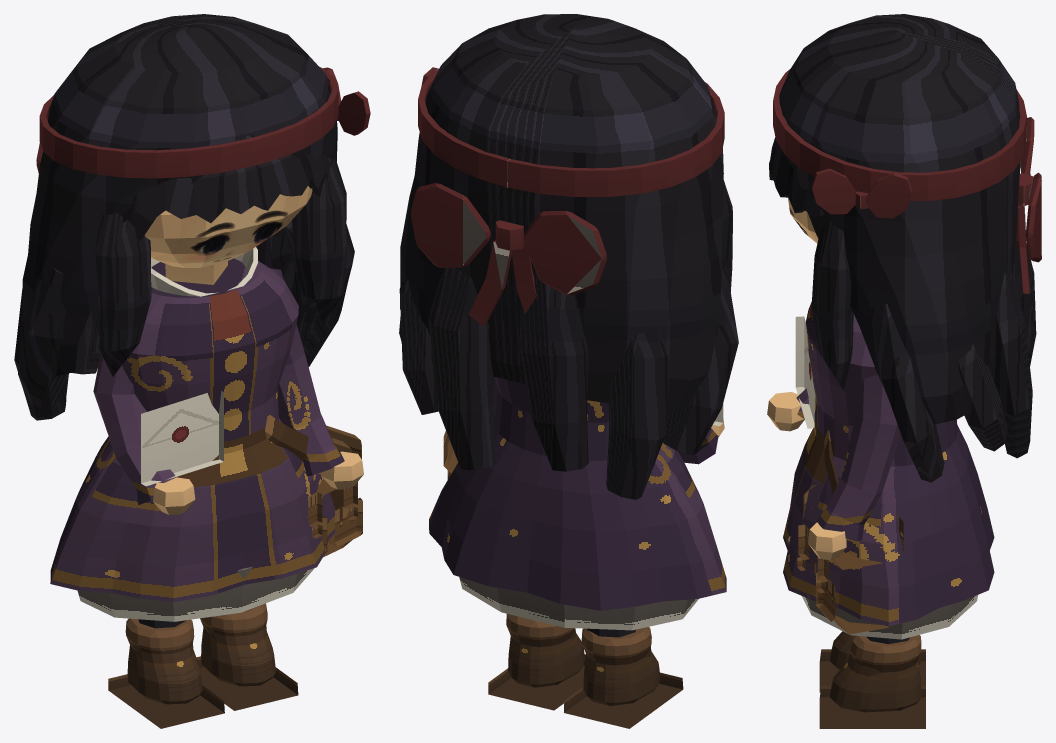
Rendered from postmaster-v10.glb.
3 renders of one model, left to right at view 1: azimuth 30°, elevation 25°; view 2: azimuth 150°, elevation 25°; view 3: azimuth 270°, elevation 25°, orthographic. The views are drawn at different scales.
Parts seen in each view (by area): view 1: postmaster; view 2: postmaster; view 3: postmaster.
Part boxes in pixels (<box>): postmaster: <box>14,14,370,728</box>; postmaster: <box>399,14,738,728</box>; postmaster: <box>767,14,1041,728</box>.
Bounding box in the file's own units: 1.33 × 2.56 × 0.9614.
2 materials, 2 textured.
